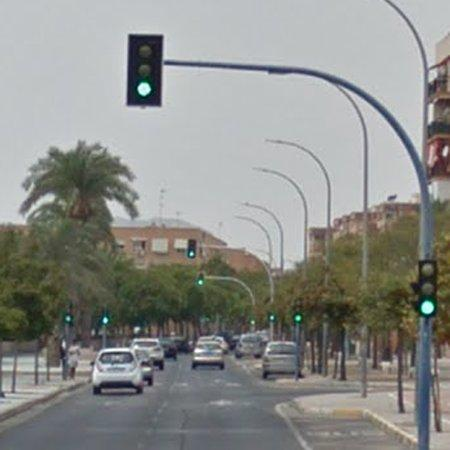traffic lights: (126, 33, 164, 107)
